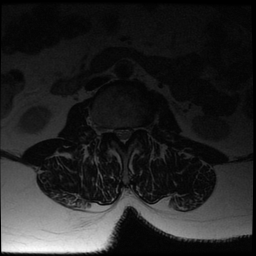CCS_stenosis: (120, 121, 127, 151)
LFS_severe_stenosis: (134, 119, 142, 142)
LLS_stenosis: (127, 120, 133, 144)
RFS_stenosis: (105, 119, 113, 140)
RLS_stenosis: (113, 121, 120, 143)
